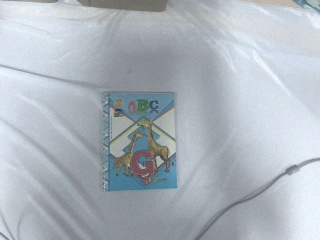book: (92, 91, 181, 193)
